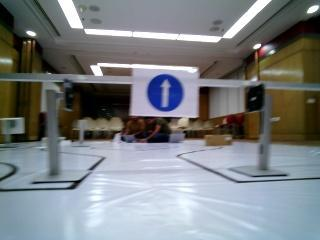straight: (132, 66, 200, 117)
